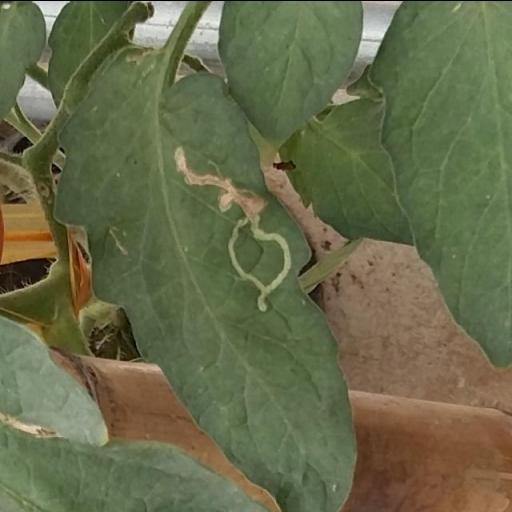Leaf Miner: (50, 41, 358, 512)
